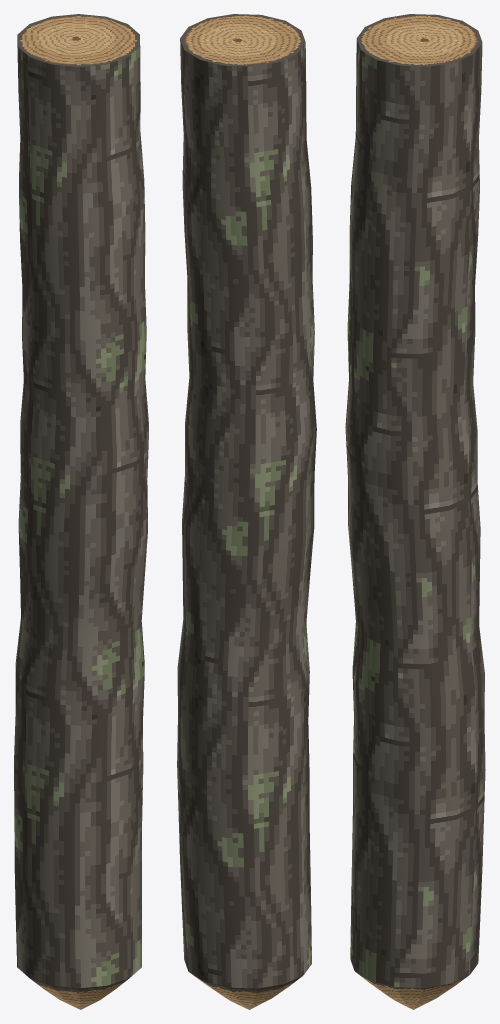
File: environment_elm_log_v56.fbx
3 views of the same model, side by side, from view 1: azimuth 90°, elevation 25°; view 2: azimuth 150°, elevation 25°; view 3: azimuth 330°, elevation 25° (orthographic).
Visible parts, largest first — view 1: environment_elm_log_v56; view 2: environment_elm_log_v56; view 3: environment_elm_log_v56.
Boxes of the visible parts, x1,y1,x2,y2 form: environment_elm_log_v56: [14, 14, 148, 1009]; environment_elm_log_v56: [177, 14, 316, 1009]; environment_elm_log_v56: [345, 14, 485, 1009].
Bounding box in the file's own units: 129 × 1000 × 127.
Materials: 2 (2 with a texture image).
